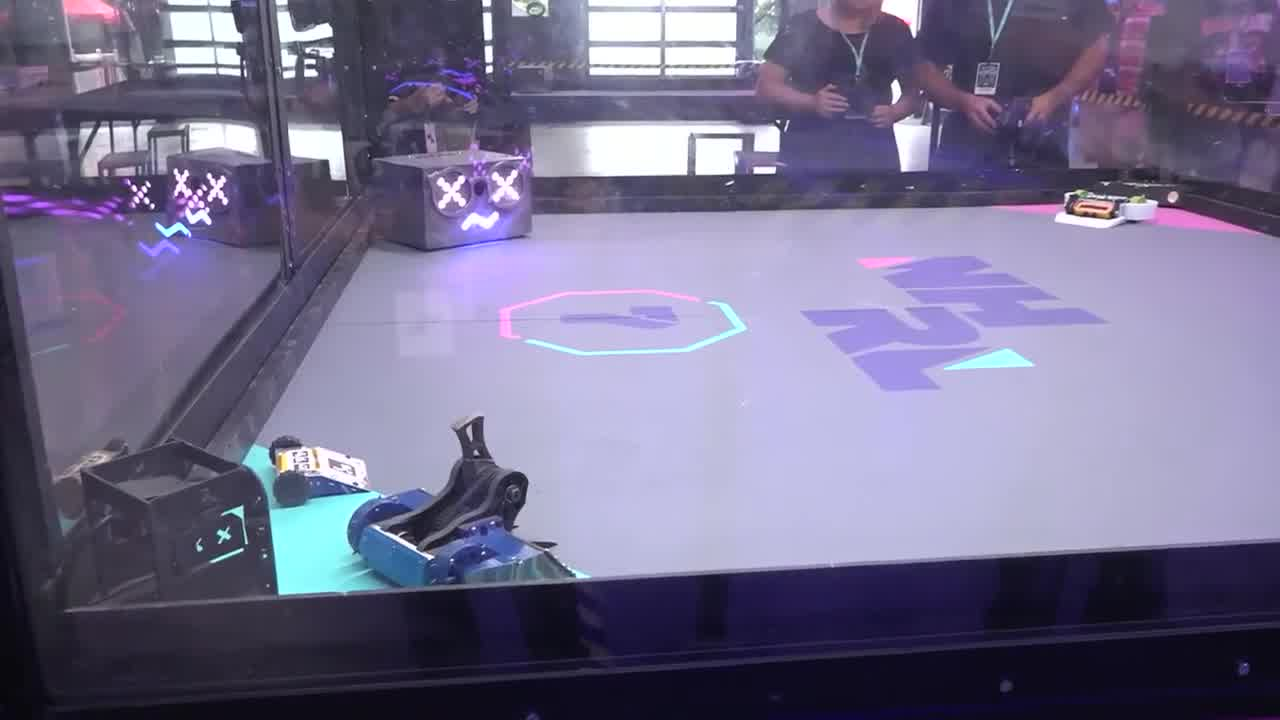combatbot: (347, 460, 581, 587), (1053, 189, 1155, 236)
housebot: (371, 149, 537, 252)
minibot: (270, 442, 365, 504)
